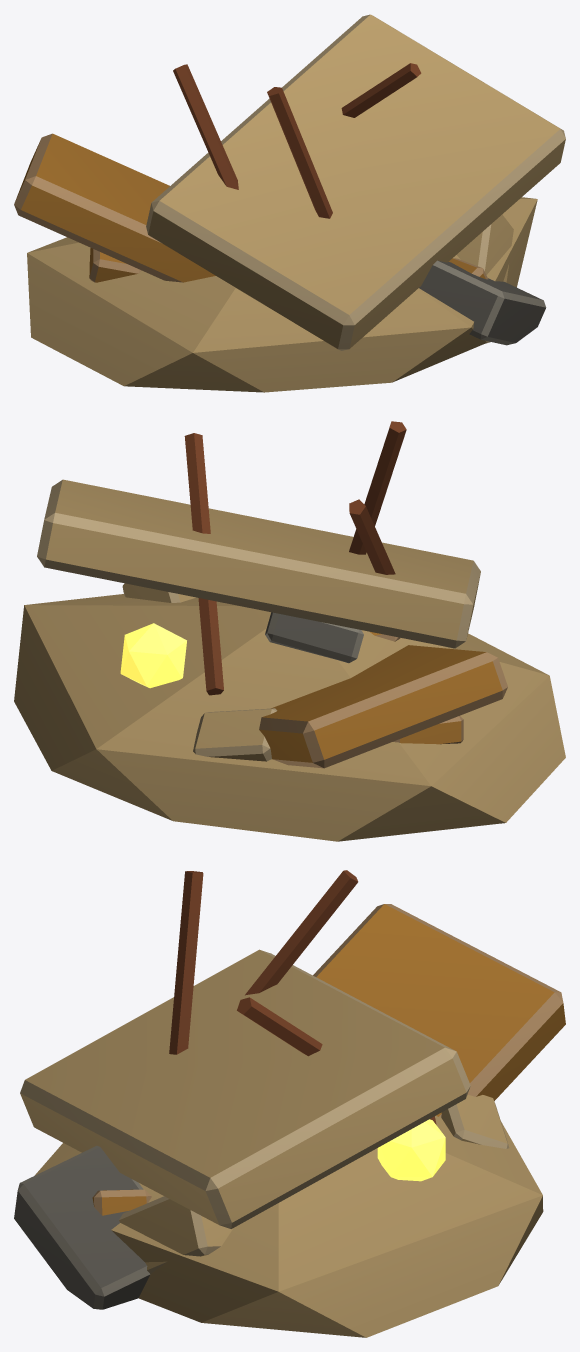
Rendered from e_debris.glb.
3 renders of one model, top to bottom at view 1: azimuth 30°, elevation 25°; view 2: azimuth 150°, elevation 25°; view 3: azimuth 270°, elevation 25°, orthographic. The views are drawn at different scales.
Parts seen in each view (by area): view 1: e_debris; view 2: e_debris; view 3: e_debris.
Boxes of the visible parts, x1,y1,x2,y2 form: e_debris: [14, 14, 565, 392]; e_debris: [14, 421, 565, 841]; e_debris: [14, 870, 565, 1337].
Size of the model in its own units: 1.97 by 1.03 by 1.66.
